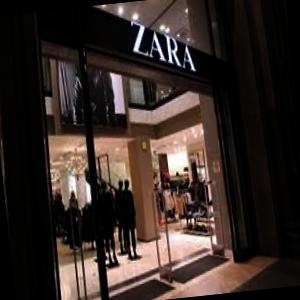zara: (150, 43, 278, 54)
